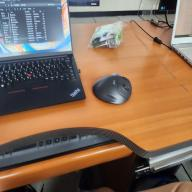mouse: (92, 73, 134, 106)
